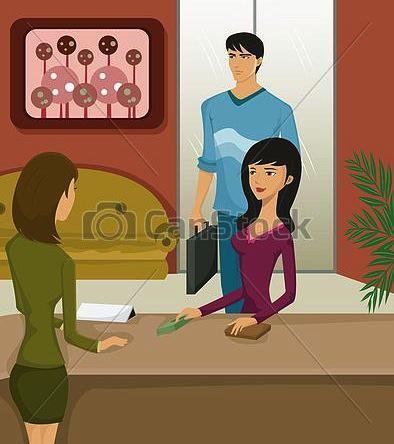person: (193, 34, 291, 315), (7, 150, 99, 439), (209, 134, 305, 334)
sofa: (2, 165, 178, 284)
